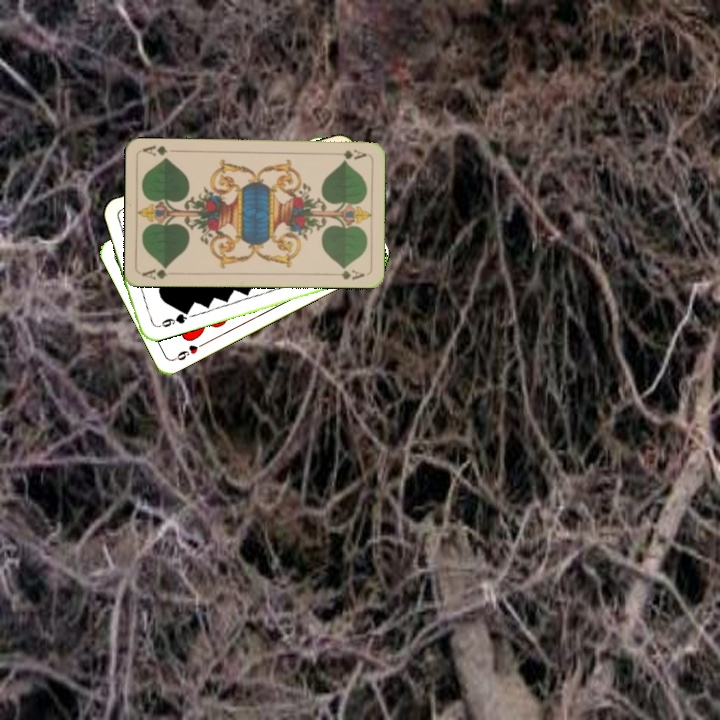G9: (152, 308, 191, 330)
GA: (139, 262, 170, 282), (339, 145, 369, 162)
H9: (170, 339, 207, 363)
